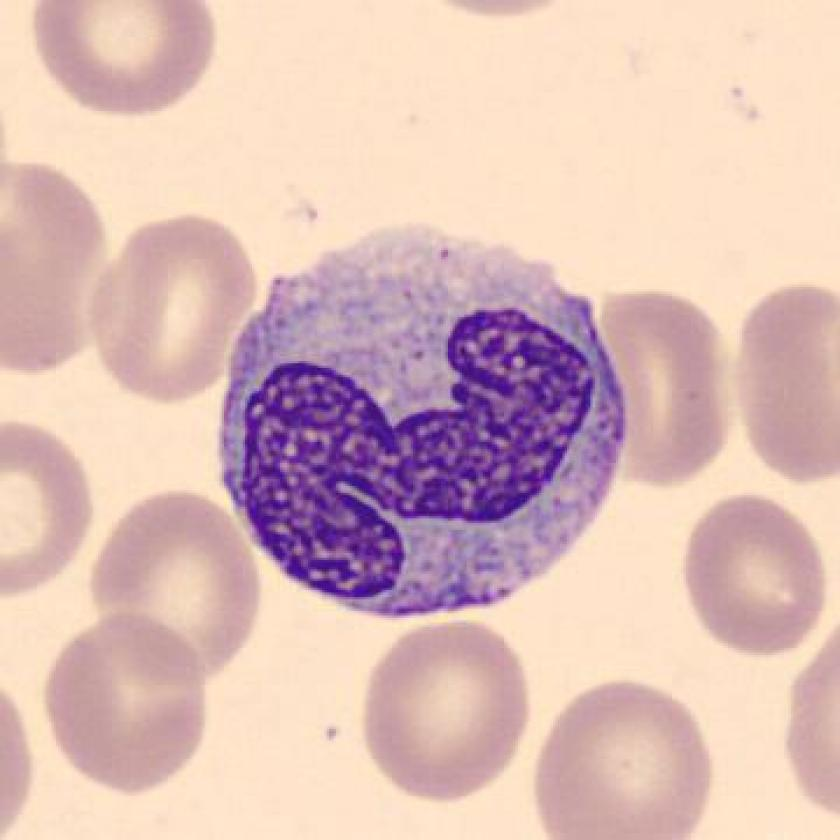monocyte: (197, 205, 650, 649)
